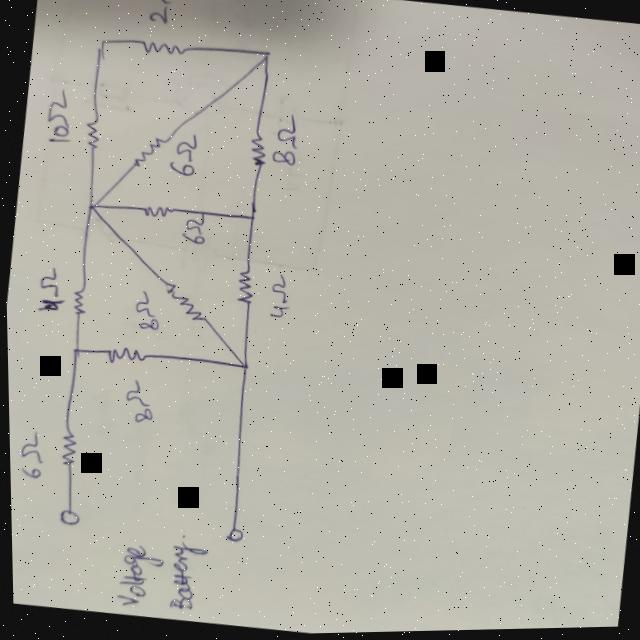junction: (233, 359, 251, 374), (241, 211, 260, 225), (82, 201, 99, 214), (68, 344, 81, 356), (260, 50, 273, 61), (96, 38, 109, 47)
resistor: (160, 280, 207, 324), (129, 133, 168, 171), (131, 199, 183, 224), (134, 38, 189, 59), (102, 344, 146, 367), (245, 134, 268, 168), (56, 430, 76, 469), (232, 269, 253, 305), (81, 117, 101, 151), (68, 287, 86, 316)
terminal: (219, 523, 244, 546), (55, 506, 79, 529)
text: (111, 533, 206, 615), (41, 86, 75, 145), (267, 113, 300, 168), (10, 428, 45, 479), (32, 264, 66, 313), (166, 132, 200, 179), (263, 272, 293, 321), (128, 289, 160, 330), (121, 388, 152, 422), (178, 212, 206, 243), (140, 0, 174, 25)
